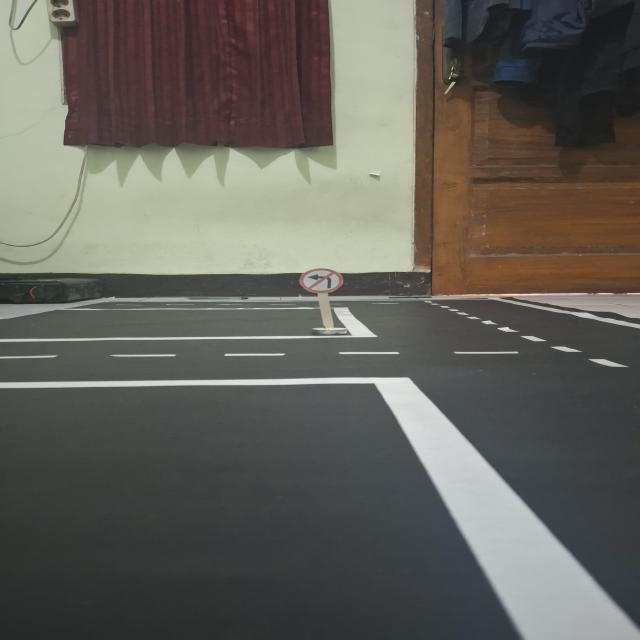Dilarang Belok Kiri: (300, 268, 343, 293)
